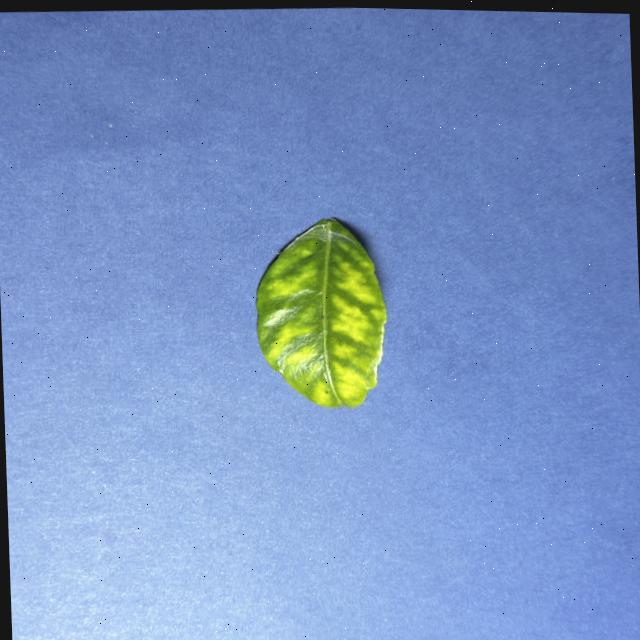greening: (255, 218, 385, 406)
